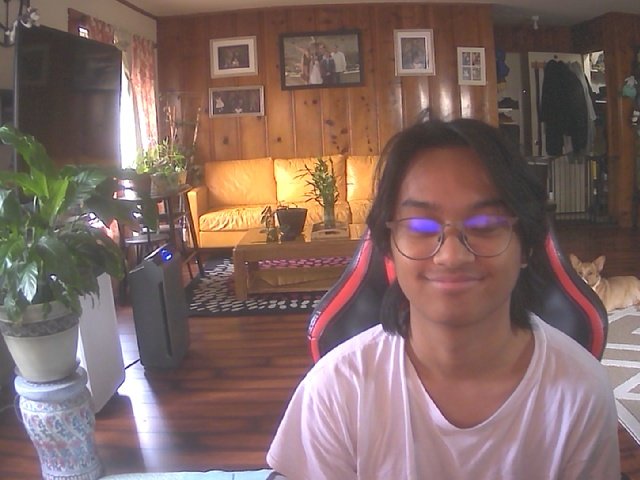happy: (376, 123, 541, 331)
